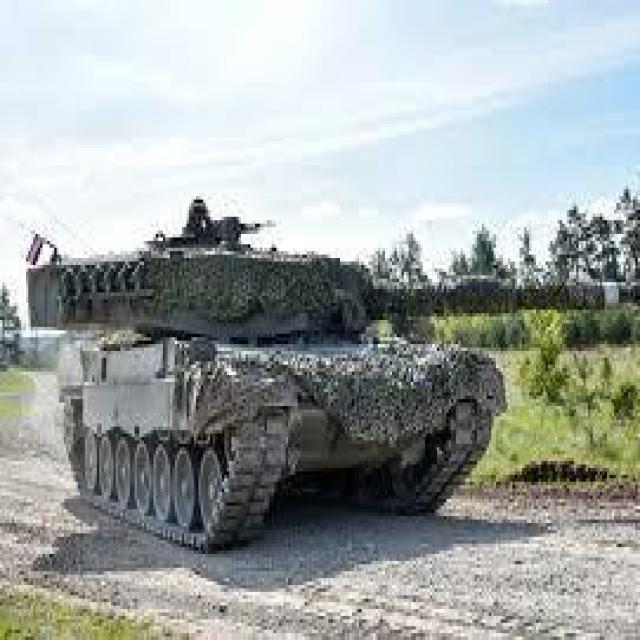Tanks: (24, 188, 621, 546)
